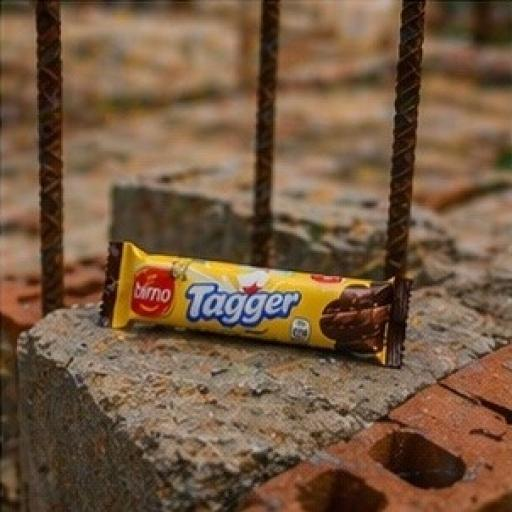tagger: (66, 200, 461, 415)
